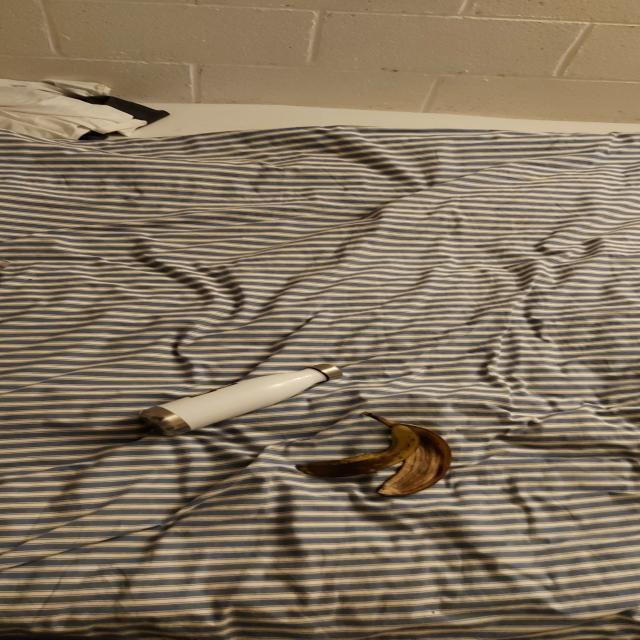banana-peel: (294, 410, 452, 498)
